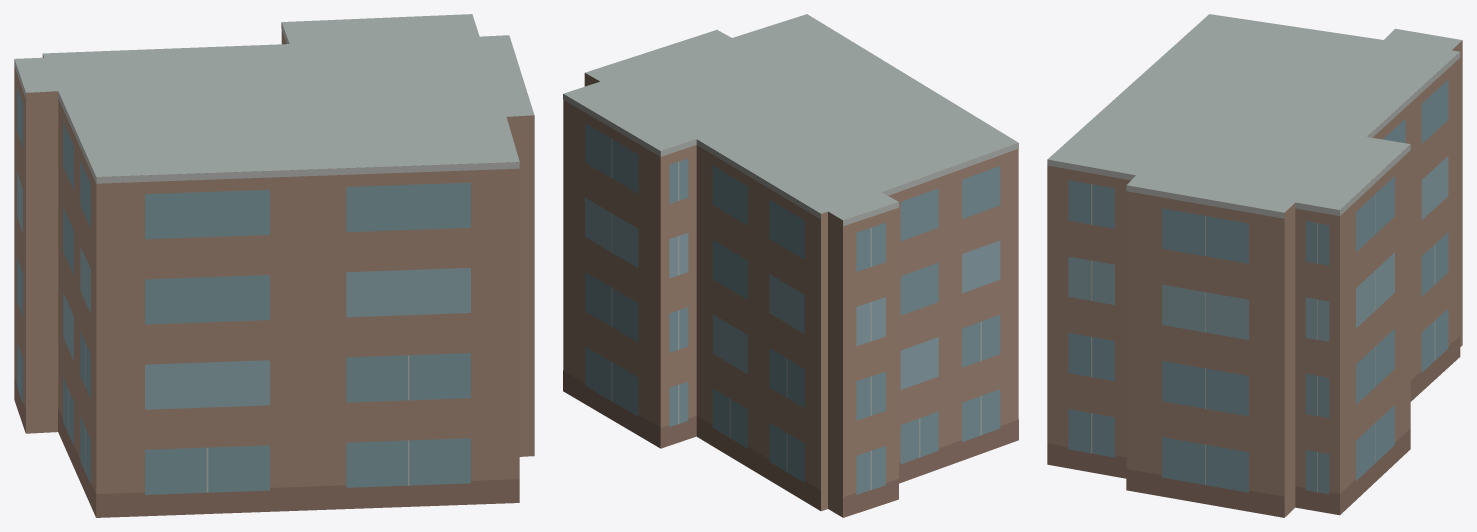
The model's file is survey-upis-32908485.glb.
3 views of the same model, side by side, from view 1: azimuth 30°, elevation 25°; view 2: azimuth 150°, elevation 25°; view 3: azimuth 270°, elevation 25° (orthographic). The views are drawn at different scales.
Visible parts, largest first — view 1: survey-upis-32908485.tmp; view 2: survey-upis-32908485.tmp; view 3: survey-upis-32908485.tmp.
Part boxes in pixels (x1,y1,x2,y2): survey-upis-32908485.tmp: (14, 14, 534, 517); survey-upis-32908485.tmp: (563, 14, 1018, 517); survey-upis-32908485.tmp: (1047, 14, 1462, 517).
Size of the model in its own units: 17.38 by 12.43 by 15.34.
